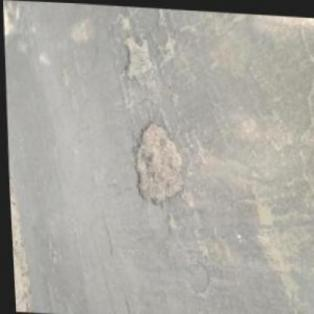Hueco: (128, 116, 184, 204), (119, 31, 152, 80)
